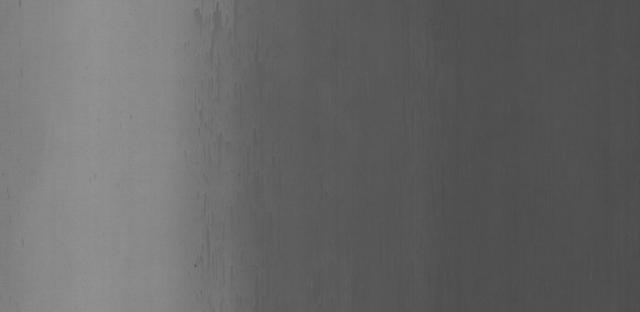water_spot: (188, 3, 290, 263)
